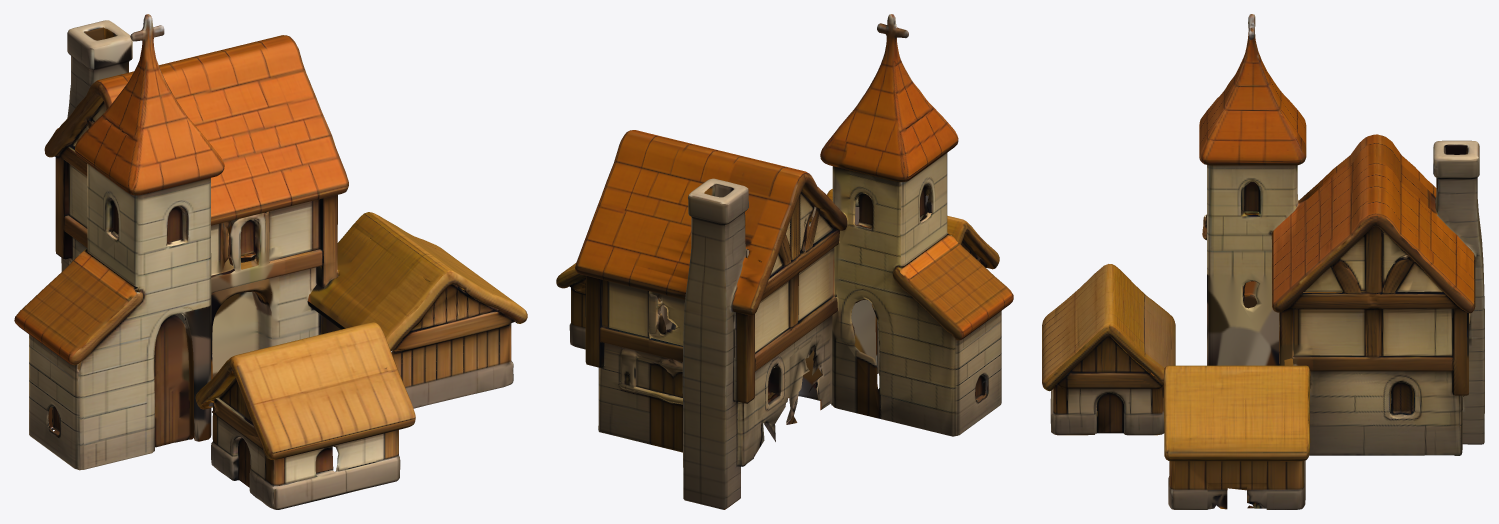
Rendered from jliekc29.glb.
3 views of the same model, side by side, from view 1: azimuth 30°, elevation 25°; view 2: azimuth 150°, elevation 25°; view 3: azimuth 270°, elevation 25° (orthographic). The views are drawn at different scales.
Parts seen in each view (by area): view 1: Medieval Village Buildings; view 2: Medieval Village Buildings; view 3: Medieval Village Buildings.
Part boxes in pixels (x1,y1,x2,y2): Medieval Village Buildings: (14,14,527,509); Medieval Village Buildings: (556,14,1013,509); Medieval Village Buildings: (1042,14,1484,509).
Bounding box in the file's own units: 0.3559 × 0.35 × 0.3582.
1 material, 1 textured.
